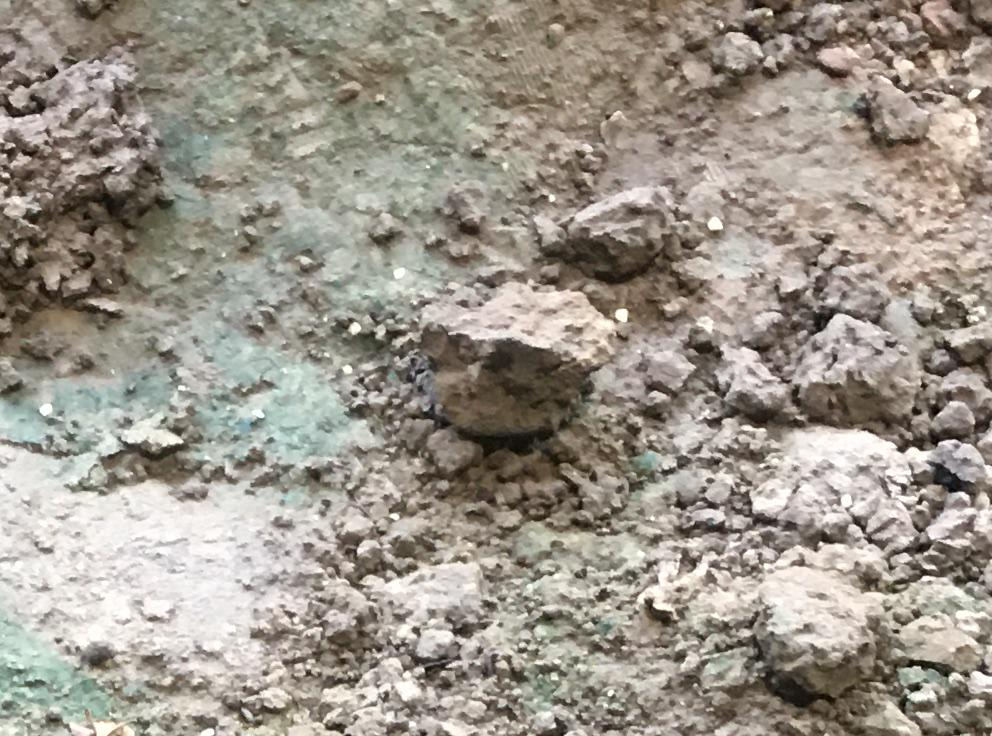block: (415, 287, 615, 445), (759, 559, 879, 705), (792, 313, 914, 425), (552, 187, 678, 275)
